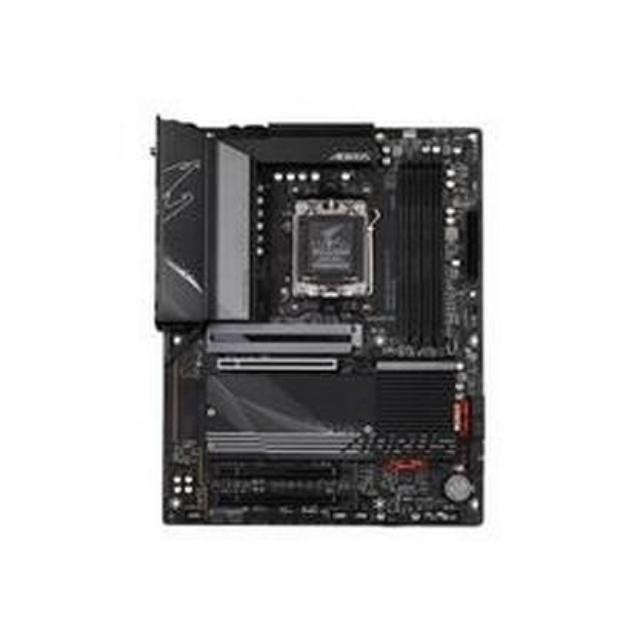Mainboard: (152, 104, 488, 536)
